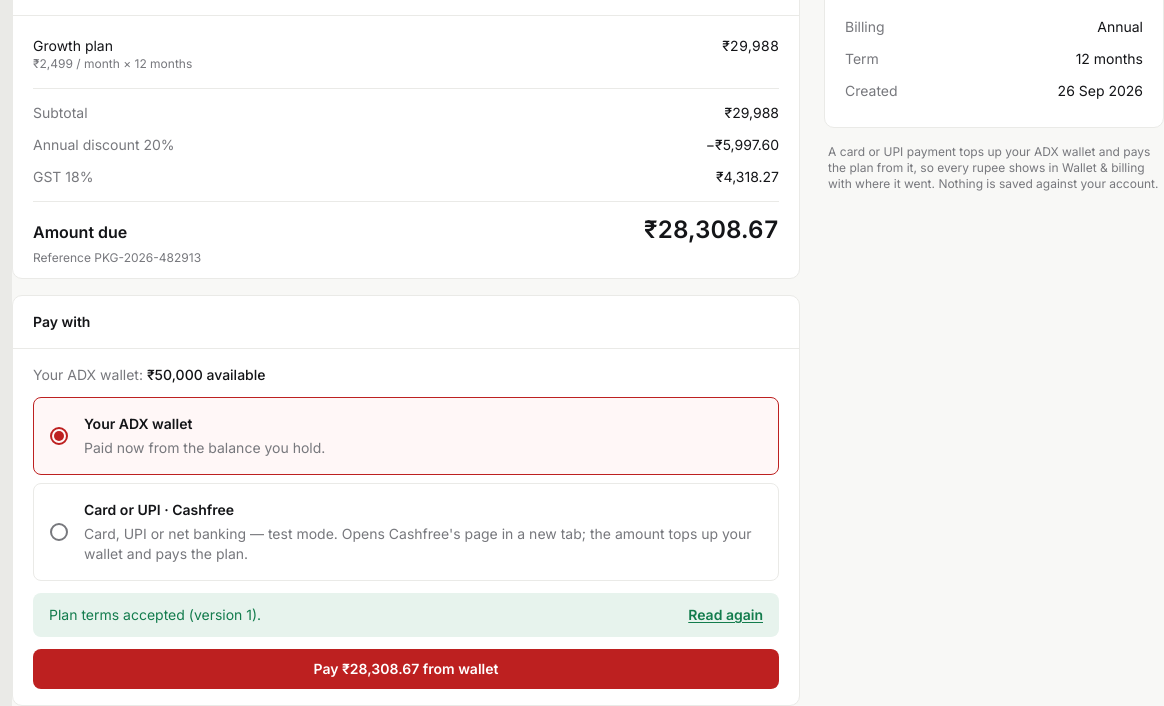
a plan sale › pays from the wallet once the terms are current, and turns into the receipt
(page scrolled)
Click the button "Pay ₹28,308.67 from wallet" at {"x": 406, "y": 669}, box [33,649,779,689]
(page scrolled)
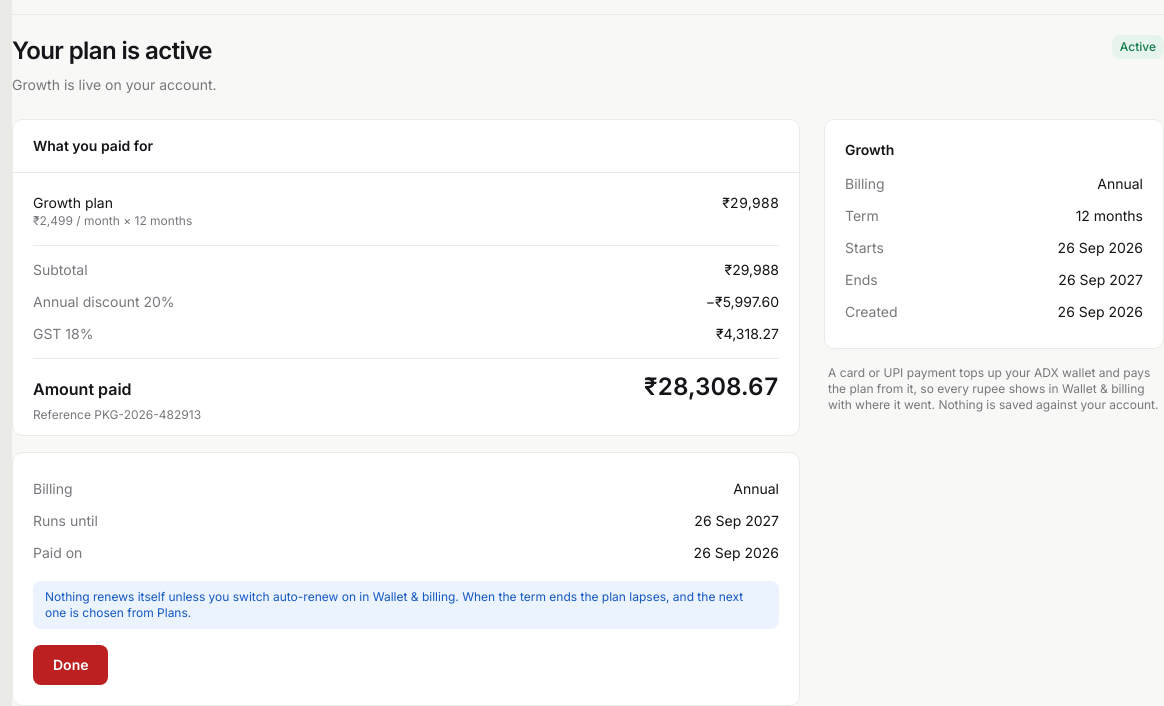
Check: the heading "Your plan is active" is shown, box [12,35,217,67]
Check: the text "Runs until" is shown, box [33,511,98,531]
